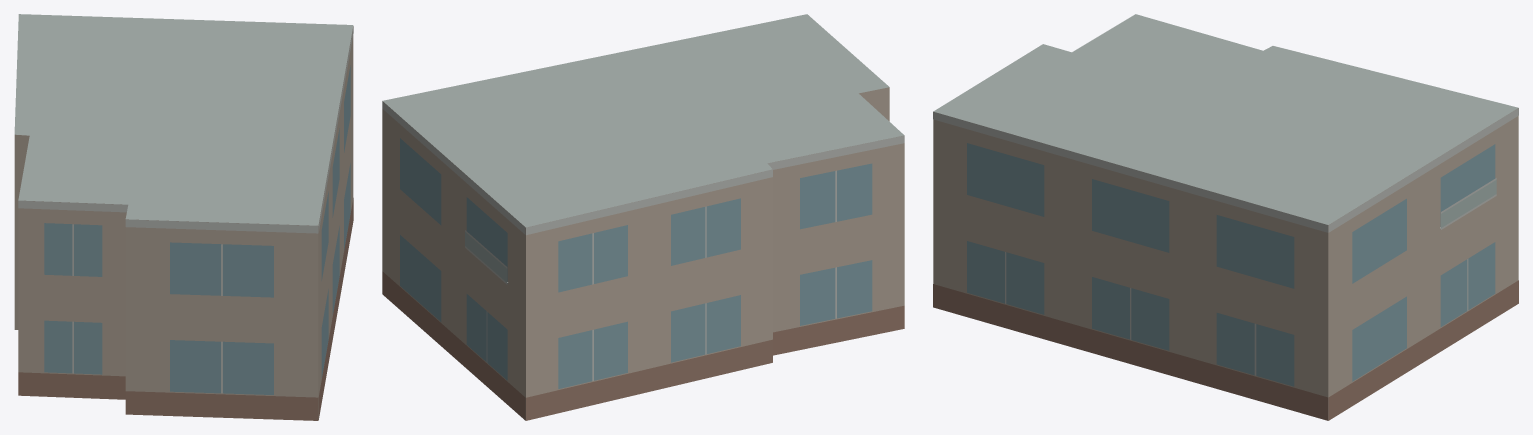
The model's file is survey-upis-32787987.glb.
3 views of the same model, side by side, from view 1: azimuth 30°, elevation 25°; view 2: azimuth 150°, elevation 25°; view 3: azimuth 270°, elevation 25° (orthographic).
Visible parts, largest first — view 1: survey-upis-32787987.tmp; view 2: survey-upis-32787987.tmp; view 3: survey-upis-32787987.tmp.
Boxes of the visible parts, x1=… form: survey-upis-32787987.tmp: x1=14, y1=14, x2=353, y2=420; survey-upis-32787987.tmp: x1=382, y1=14, x2=904, y2=420; survey-upis-32787987.tmp: x1=933, y1=14, x2=1518, y2=420.
Bounding box in the file's own units: 14.12 × 6.1 × 16.55.
